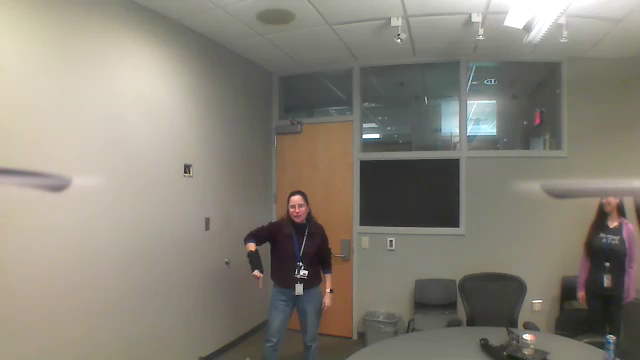down: (245, 268, 267, 293)
